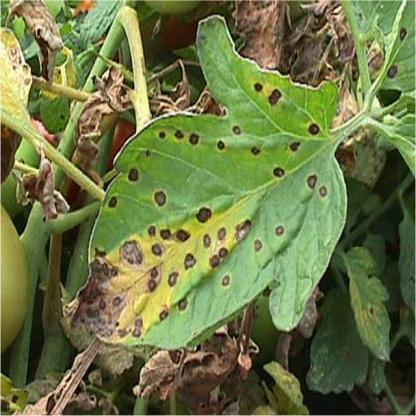tomato leaf bacterial spot: (53, 17, 358, 361)
